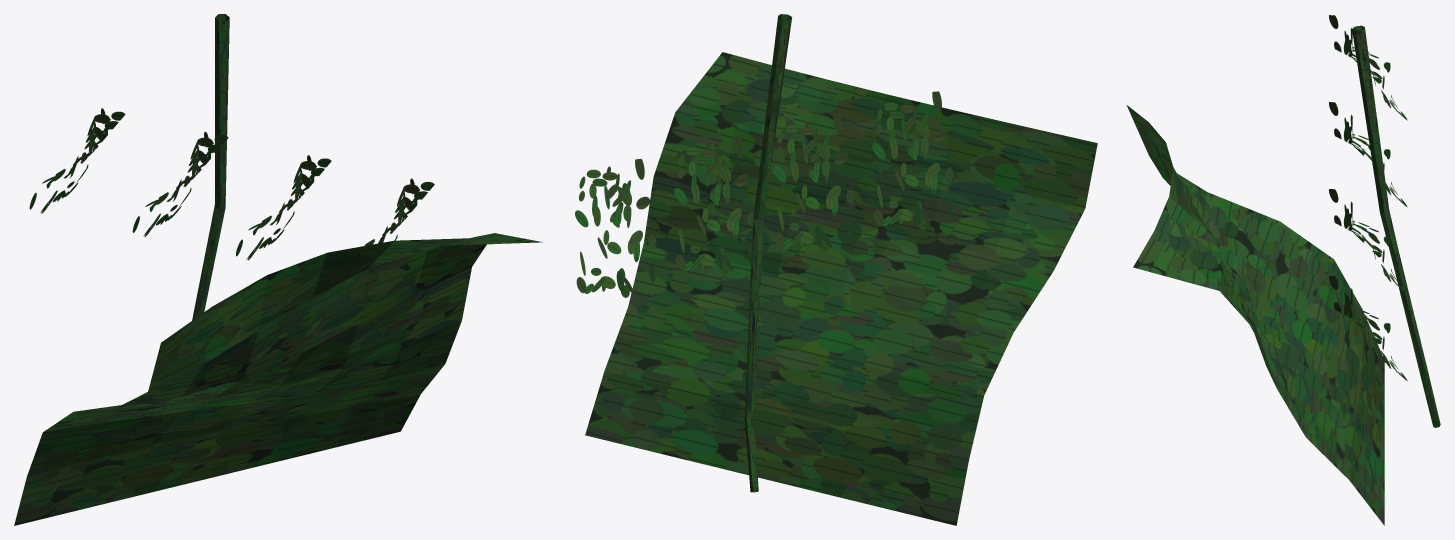
Rendered from bui-chuoi-la-chuoi-rach.glb.
3 renders of one model, left to right at view 1: azimuth 30°, elevation 25°; view 2: azimuth 150°, elevation 25°; view 3: azimuth 270°, elevation 25°, orthographic. The views are drawn at different scales.
Parts seen in each view (by area): view 1: bui-chuoi-la-chuoi-rach; view 2: bui-chuoi-la-chuoi-rach; view 3: bui-chuoi-la-chuoi-rach.
Part boxes in pixels (x1,y1,x2,y2): bui-chuoi-la-chuoi-rach: (14, 14, 542, 525); bui-chuoi-la-chuoi-rach: (575, 14, 1097, 525); bui-chuoi-la-chuoi-rach: (1126, 15, 1440, 525).
Size of the model in its own units: 1.61 by 1.75 by 1.2.
2 materials, 2 textured.
